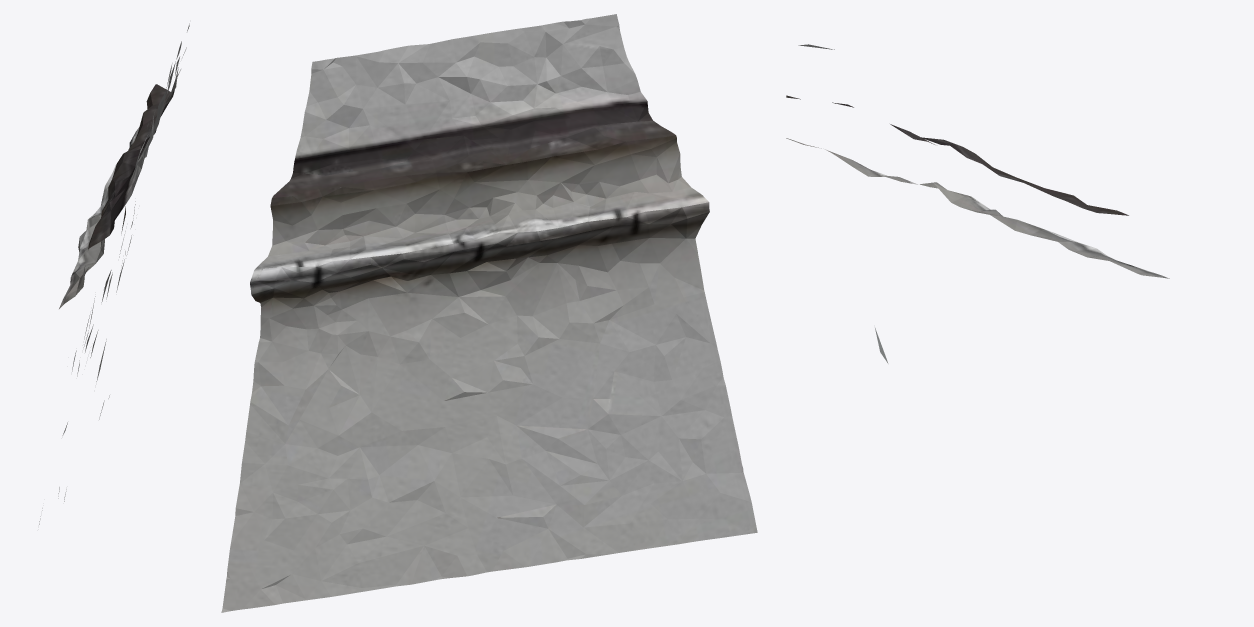
The picture shows the model from 3 angles, left to right: view 1: azimuth 30°, elevation 25°; view 2: azimuth 150°, elevation 25°; view 3: azimuth 270°, elevation 25°; orthographic projection. The views are drawn at different scales.
Size of the model in its own units: 0.5791 by 0.8374 by 0.6777.
2 materials, 2 textured.
